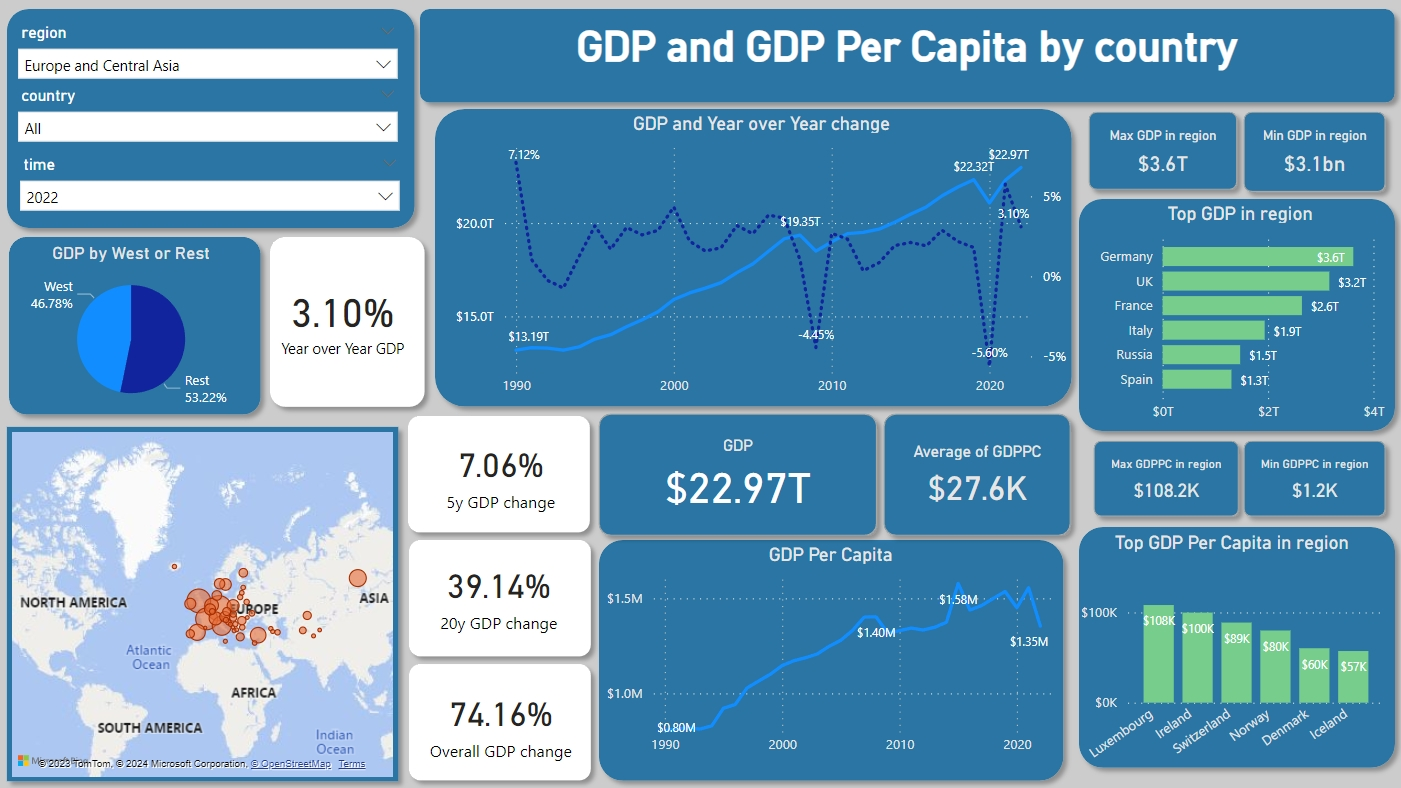

This screenshot's page, from the dashboard's own definition file:
{"tool":"powerbi","page":{"name":"GDP","canvas":[1280,720],"ordinal":1},"visuals":[{"type":"shape","box":[365.9,595.9,183.4,123.9],"z":0},{"type":"shape","box":[364.9,369.8,183.4,123.9],"z":1000},{"type":"shape","box":[365.9,482.9,183.4,123.9],"z":2000},{"type":"shape","box":[2,207.2,246.9,179.5],"z":3000},{"type":"shape","box":[238.9,207.2,158.6,172.5],"z":4000},{"type":"shape","box":[0,0,388.7,217.1],"z":5000},{"type":"shape","box":[0,379.7,373.8,340.1],"z":6000},{"type":"shape","box":[538.4,482.9,440.2,237],"z":7000},{"type":"shape","box":[375.8,0,904.2,103.1],"z":8000},{"type":"shape","box":[974.6,471,305.4,237],"z":9000},{"type":"shape","box":[974.6,172.5,305.4,229],"z":10000},{"type":"barChart","title":"Top GDP in region","fields":{"Category":["countries.name"],"Y":["Max(populations.gdp)"]},"box":[993.5,184.4,272.7,208.2],"z":11000},{"type":"slicer","fields":{"Values":["populations.time"]},"box":[10.9,136.8,364.9,68.4],"z":12000},{"type":"map","title":"Population on the map","fields":{"Category":["countries.name"],"Series":["countries.region"],"Size":["Sum(populations.gdp)"]},"box":[8.9,388.7,355.9,323.2],"z":13000},{"type":"cardVisual","fields":{"Data":["Min(populations.gdp)"]},"box":[1116.4,85.3,163.6,107.1],"z":14000},{"type":"slicer","fields":{"Values":["countries.region"]},"box":[8.9,16.9,364.9,68.4],"z":15000},{"type":"cardVisual","fields":{"Data":["Max(populations.gdp)"]},"box":[975.2,85.5,169.4,105.3],"z":16000},{"type":"pieChart","fields":{"Category":["countries.west_and_rest"],"Y":["Sum(populations.gdp)"]},"box":[10.9,221.1,222.1,158.6],"z":17000},{"type":"slicer","fields":{"Values":["countries.name"]},"box":[8.9,74.4,364.9,68.4],"z":18000},{"type":"cardVisual","fields":{"Data":["Avg(populations.gdppc)"]},"box":[789.2,359.9,204.2,145.7],"z":19000},{"type":"textbox","box":[391.6,15.9,871.5,67.4],"z":20000},{"type":"cardVisual","fields":{"Data":["Sum(populations.gdp)"]},"box":[530.4,359.9,287.5,145.7],"z":21000},{"type":"shape","box":[388.7,91.2,596.9,288.5],"z":22000},{"type":"lineChart","title":"GDP and Year over Year change","fields":{"Category":["populations.time"],"Y":["Sum(populations.gdp)"],"Y2":["populations.yoy_gdp"]},"box":[411.5,103.1,566.1,266.7],"z":23000},{"type":"card","title":"Historical and projected life expectancy","fields":{"Values":["populations.yoy"]},"box":[250.8,221.1,126.9,138.8],"z":24000},{"type":"card","fields":{"Values":["populations.22yoy"]},"box":[381.7,494.7,148.7,95.2],"z":25000},{"type":"columnChart","title":"Top GDP Per Capita in region","fields":{"Category":["countries.name"],"Y":["Max(populations.gdppc)"]},"box":[978.6,483.8,288.5,225.1],"z":26000},{"type":"lineChart","title":"GDP Per Capita","fields":{"Category":["populations.time"],"Y":["Sum(populations.gdppc)"]},"box":[549.3,494.7,417.4,201.3],"z":27000},{"type":"cardVisual","fields":{"Data":["Max(populations.gdppc)"]},"box":[980.1,384.8,166.1,103.6],"z":28000},{"type":"cardVisual","fields":{"Data":["Min(populations.gdppc)"]},"box":[1116.4,384.7,163.6,103.1],"z":29000},{"type":"card","fields":{"Values":["populations.5y_gdp_change"]},"box":[383.7,384.7,148.7,95.2],"z":30000},{"type":"card","fields":{"Values":["populations.all_gdp_change"]},"box":[383.7,610.8,148.7,95.2],"z":31000}]}

Visuals, with their boxes in screenshot pixels (x1, y1, x2, y2), scaled from the page's 1280x720 canvas onto the 1401x788 screenshot:
shape: 400:652:601:787
shape: 399:405:600:540
shape: 400:529:601:664
shape: 2:227:272:423
shape: 261:227:435:416
shape: 0:0:425:238
shape: 0:416:409:787
shape: 589:529:1071:787
shape: 411:0:1400:113
shape: 1067:515:1400:775
shape: 1067:189:1400:439
"Top GDP in region" barChart: 1087:202:1386:430
slicer - populations.time: 12:150:411:225
"Population on the map" map: 10:425:399:779
cardVisual - Min(populations.gdp): 1222:93:1400:211
slicer - countries.region: 10:18:409:93
cardVisual - Max(populations.gdp): 1067:94:1253:209
pieChart - countries.west_and_rest x Sum(populations.gdp): 12:242:255:416
slicer - countries.name: 10:81:409:156
cardVisual - Avg(populations.gdppc): 864:394:1087:553
textbox: 429:17:1383:91
cardVisual - Sum(populations.gdp): 581:394:895:553
shape: 425:100:1079:416
"GDP and Year over Year change" lineChart: 450:113:1070:405
"Historical and projected life expectancy" card: 275:242:413:394
card - populations.22yoy: 418:541:581:646
"Top GDP Per Capita in region" columnChart: 1071:529:1387:776
"GDP Per Capita" lineChart: 601:541:1058:762
cardVisual - Max(populations.gdppc): 1073:421:1255:535
cardVisual - Min(populations.gdppc): 1222:421:1400:534
card - populations.5y_gdp_change: 420:421:583:525
card - populations.all_gdp_change: 420:668:583:773
